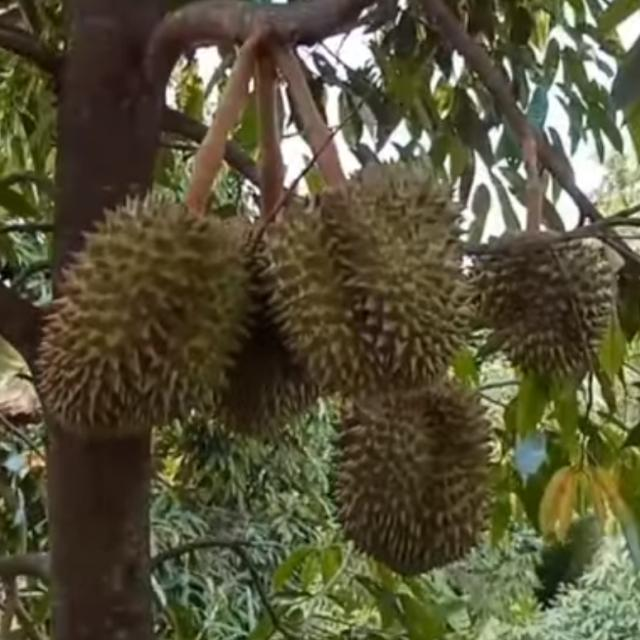mature: (36, 188, 254, 449), (261, 169, 475, 399), (333, 377, 491, 585), (472, 221, 612, 379)
